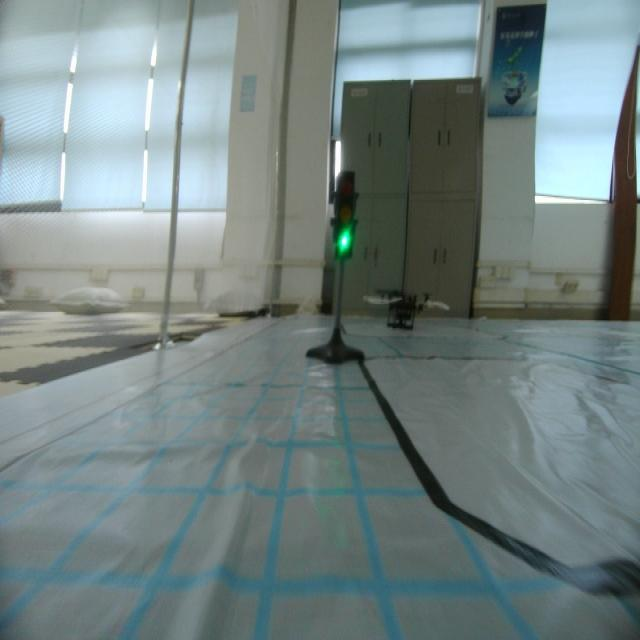green: (325, 167, 361, 269)
